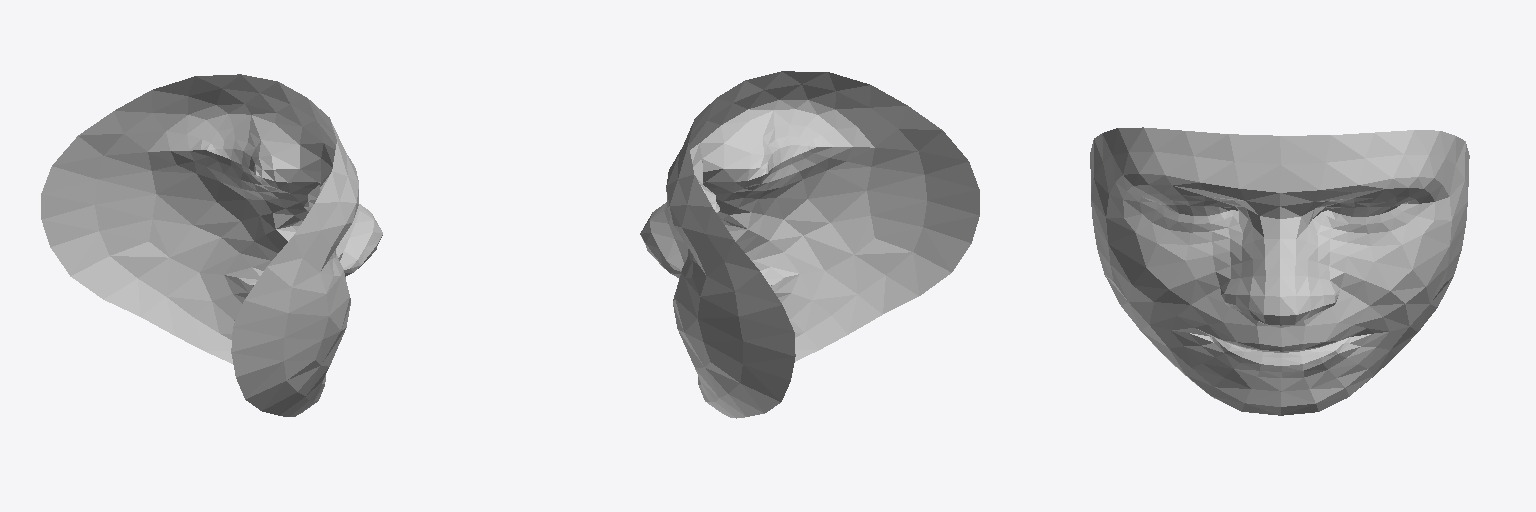
Rendered from quang.obj.
The picture shows the model from 3 angles: view 1: azimuth 30°, elevation 25°; view 2: azimuth 150°, elevation 25°; view 3: azimuth 270°, elevation 25°; orthographic projection.
Size of the model in its own units: 0.4197 by 0.4817 by 0.569.